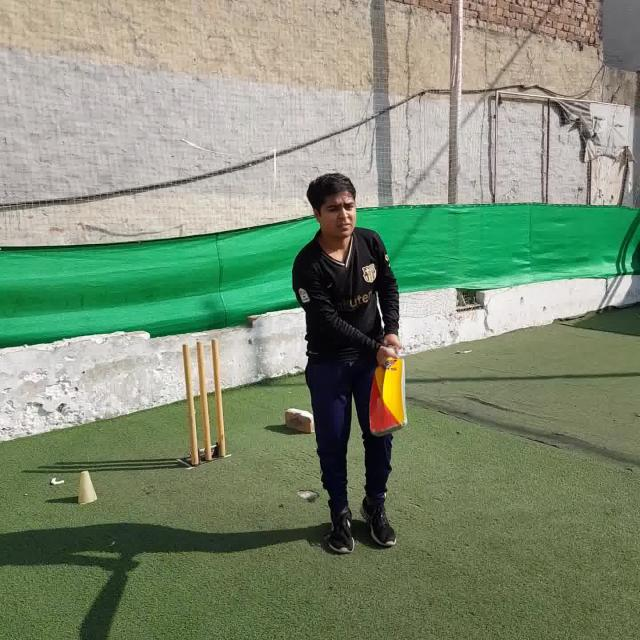bat: (365, 330, 406, 433)
